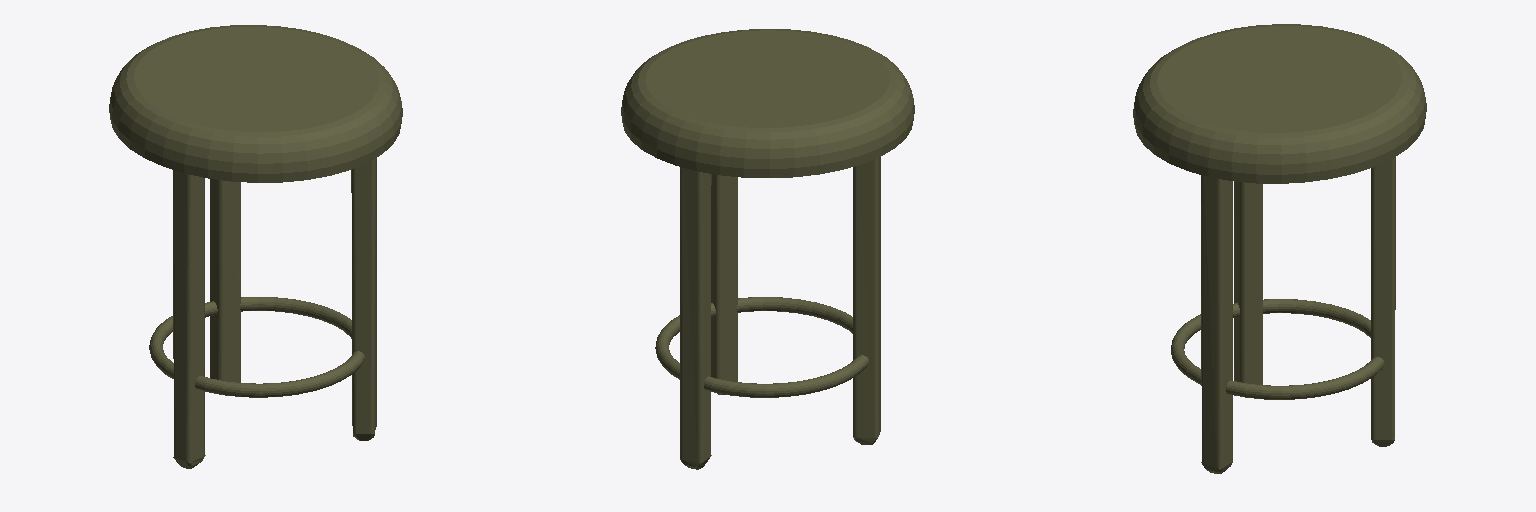
The picture shows the model from 3 angles: view 1: azimuth 30°, elevation 25°; view 2: azimuth 150°, elevation 25°; view 3: azimuth 270°, elevation 25°; orthographic projection.
Visible parts, largest first — view 1: bancoSilla:polySurface1; view 2: bancoSilla:polySurface1; view 3: bancoSilla:polySurface1.
Part boxes in pixels (left/top/right/bottom): bancoSilla:polySurface1: left=109, top=25, right=402, bottom=468; bancoSilla:polySurface1: left=621, top=29, right=914, bottom=469; bancoSilla:polySurface1: left=1133, top=24, right=1426, bottom=473.
Bounding box in the file's own units: 1.66 × 2.23 × 1.66.
2 materials, 1 textured.